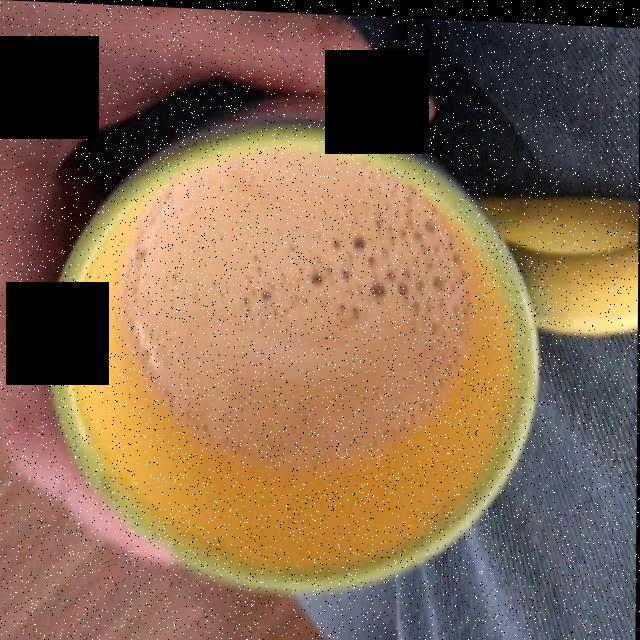white-coffee-with-caffeine: (146, 154, 473, 461)
